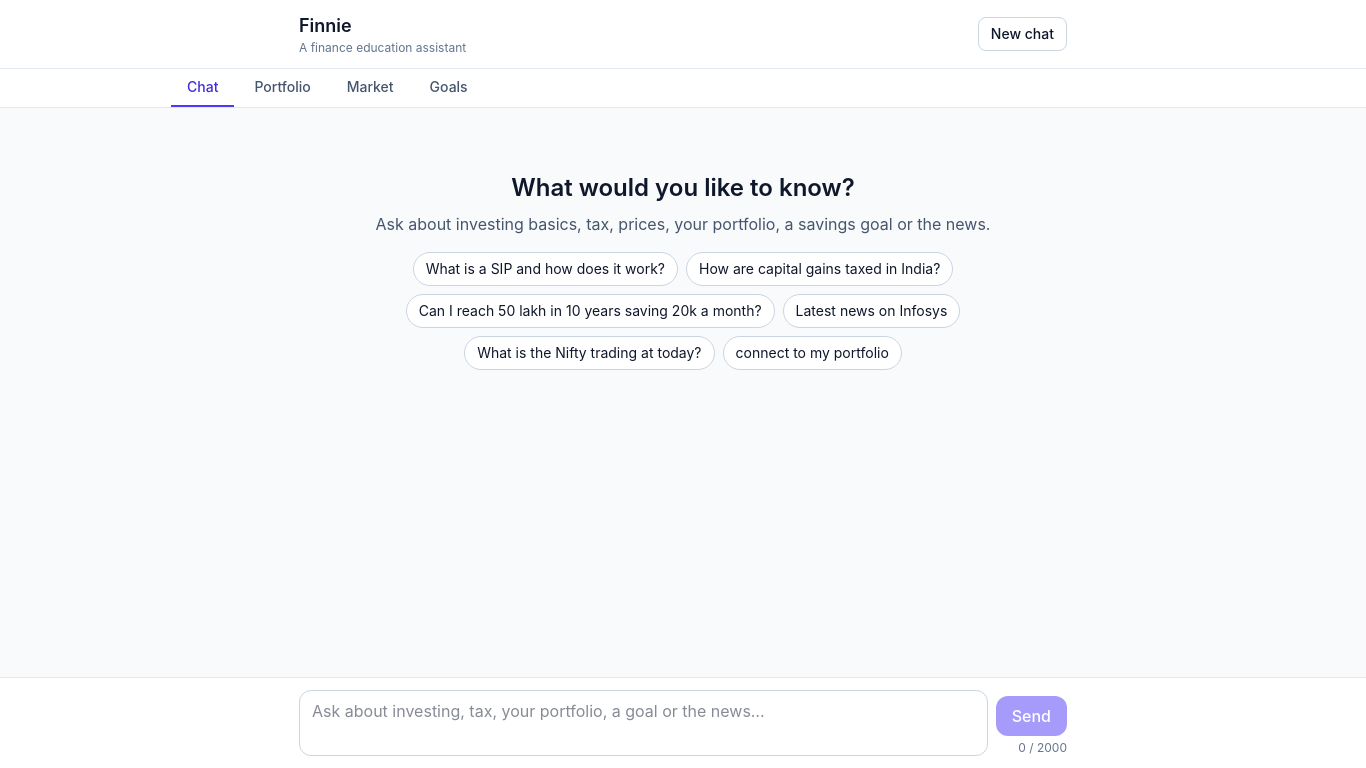
Scenario: App › still works when the agent list cannot be loaded
This screenshot has width=1366, height=768.
Type "hi" into the text box at (643,723), box [299,690,988,756]
Then press Enter
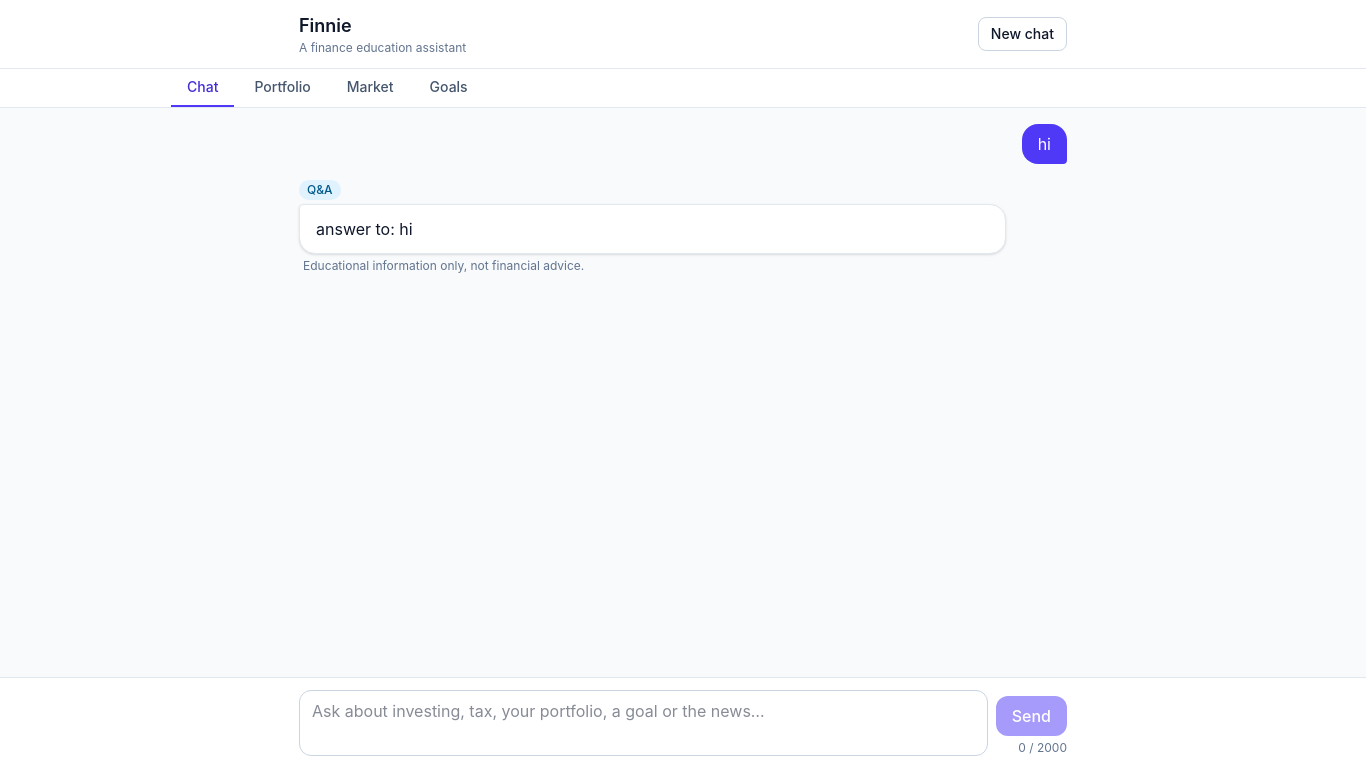
Expected: the text "answer to: hi" is shown, [316,219,413,239]
